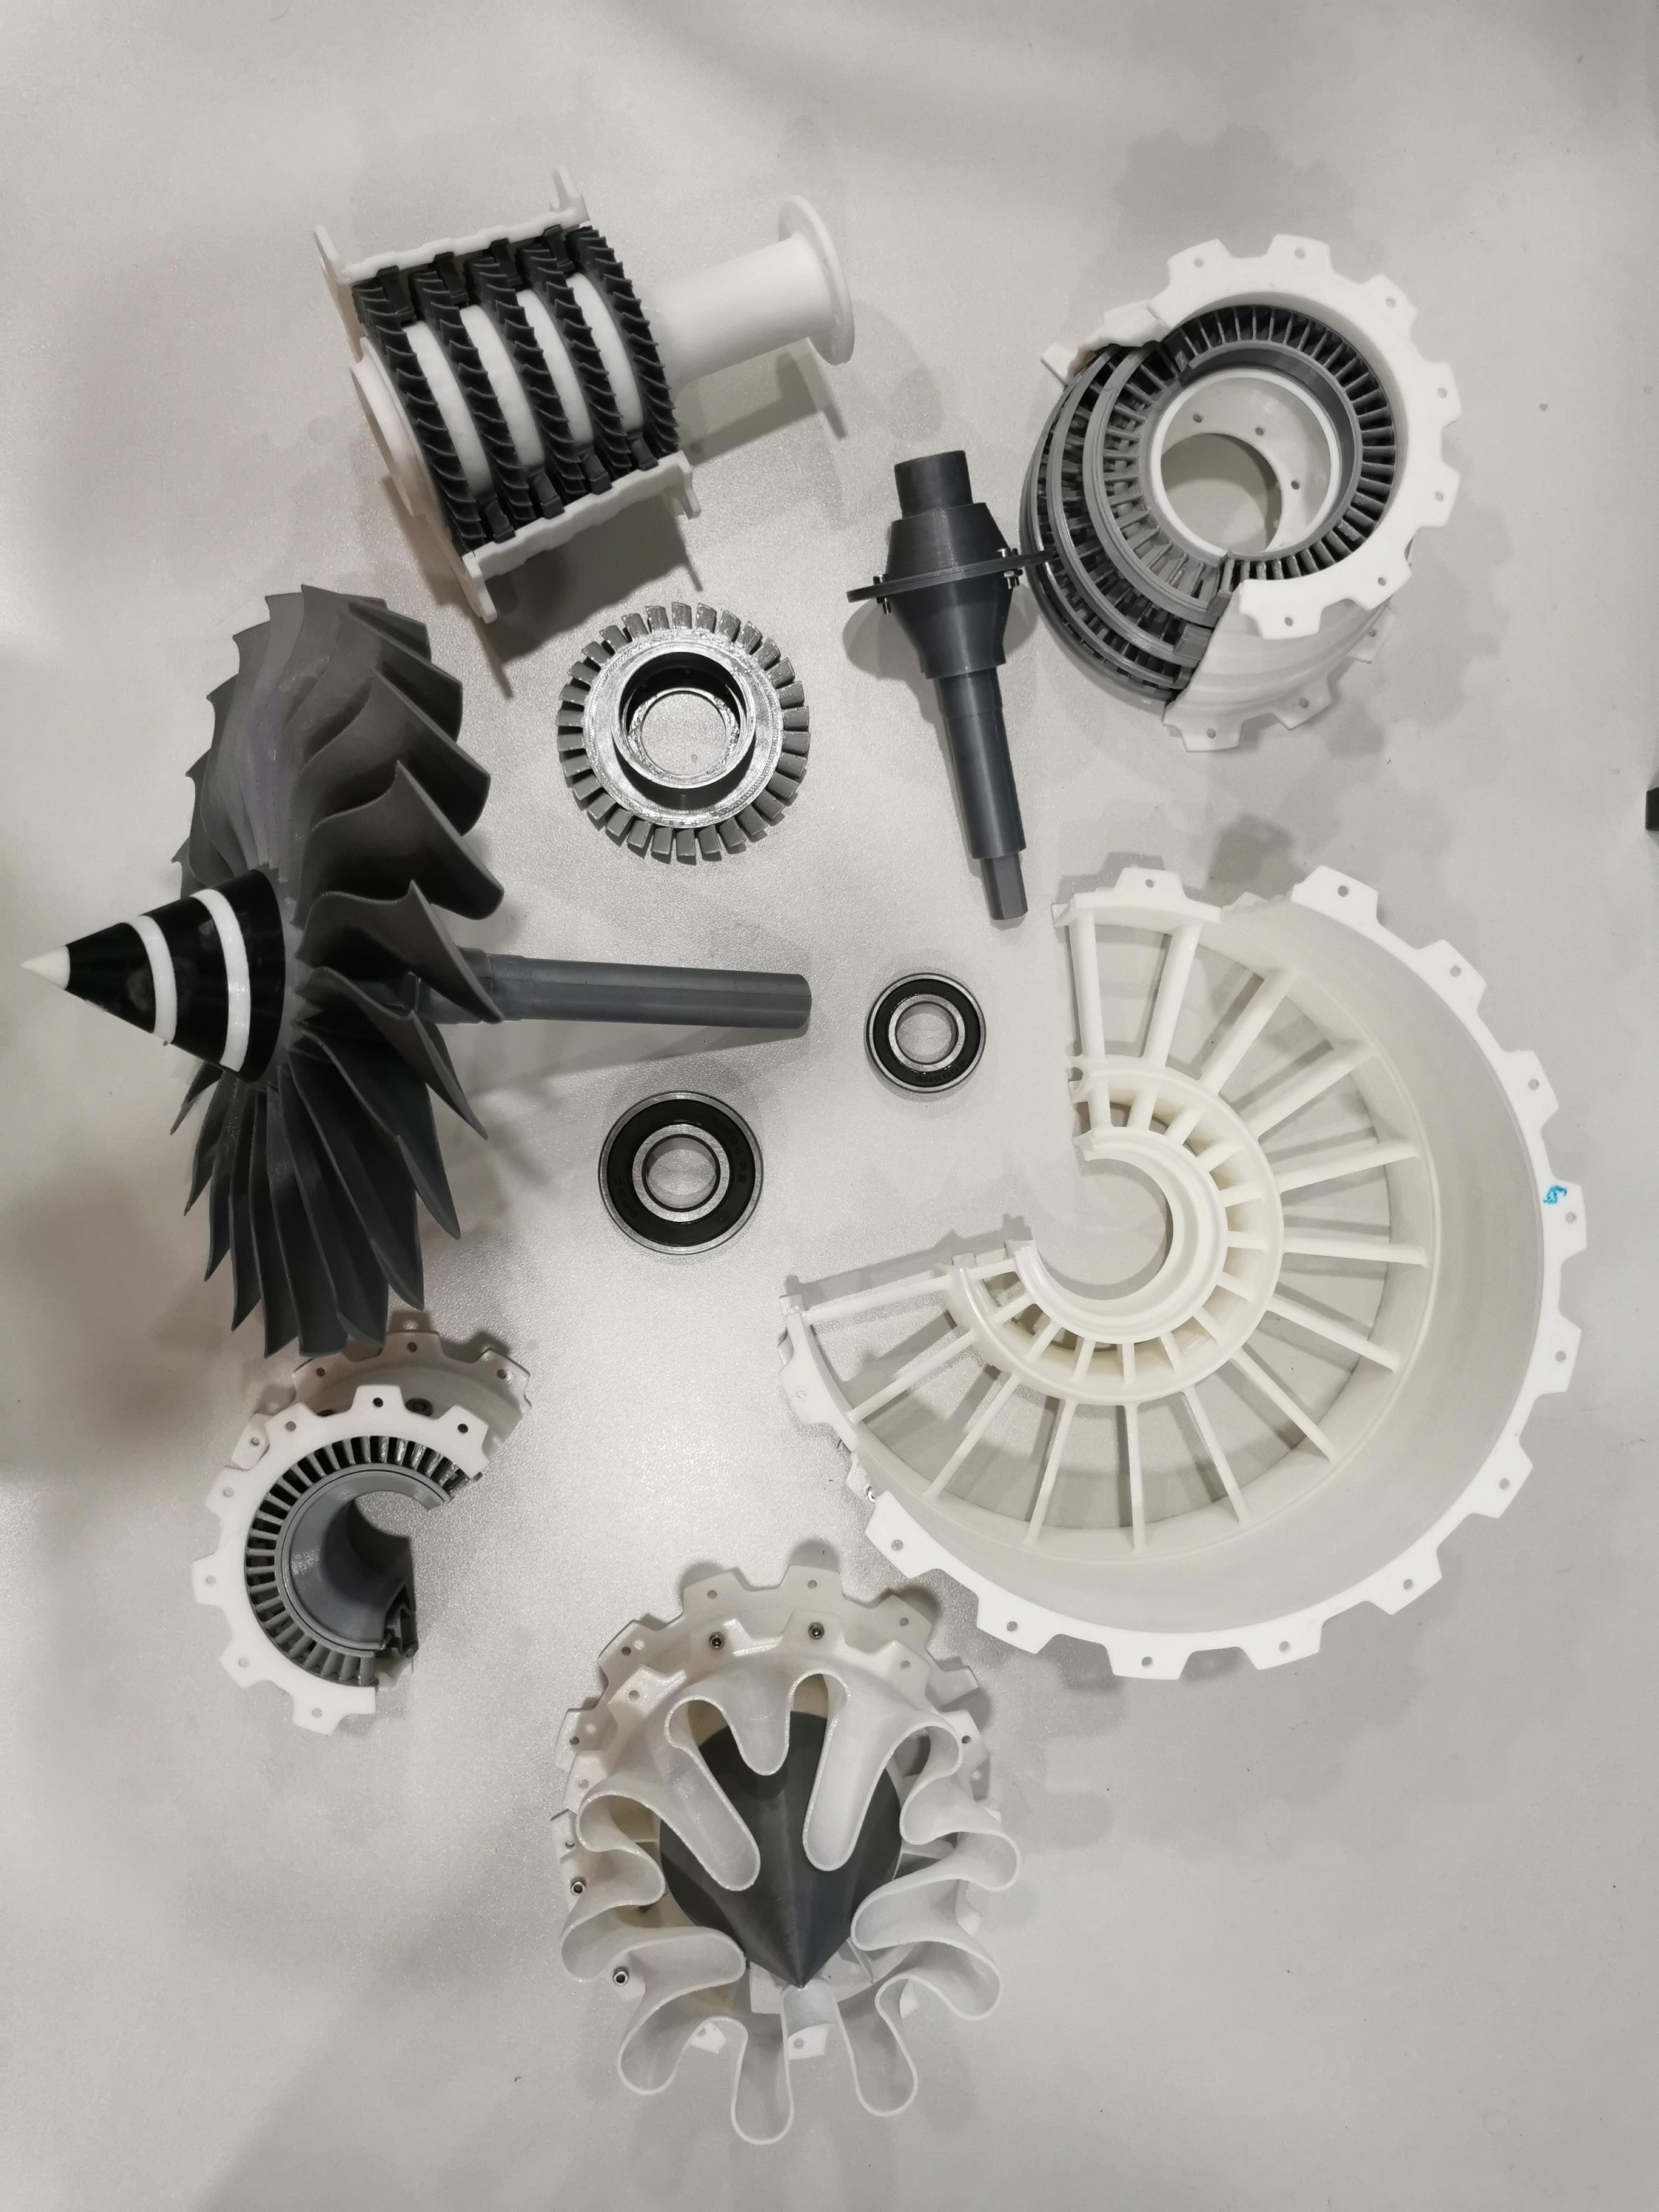Bearing-6003: (852, 951, 1004, 1120)
Bearing-6204: (572, 1082, 796, 1278)
Combustion Section: (166, 1315, 554, 1759)
Fan Casing and Support: (770, 857, 1601, 1698)
Fan and Low Pressure Shaft: (14, 575, 826, 1371)
HPT Section: (542, 587, 826, 871)
High Pressure Spool: (289, 160, 870, 629)
LPT Section: (1004, 211, 1483, 761)
Low Pressure Spool: (831, 420, 1063, 941)
Nozzle Section: (540, 1550, 1039, 2151)
